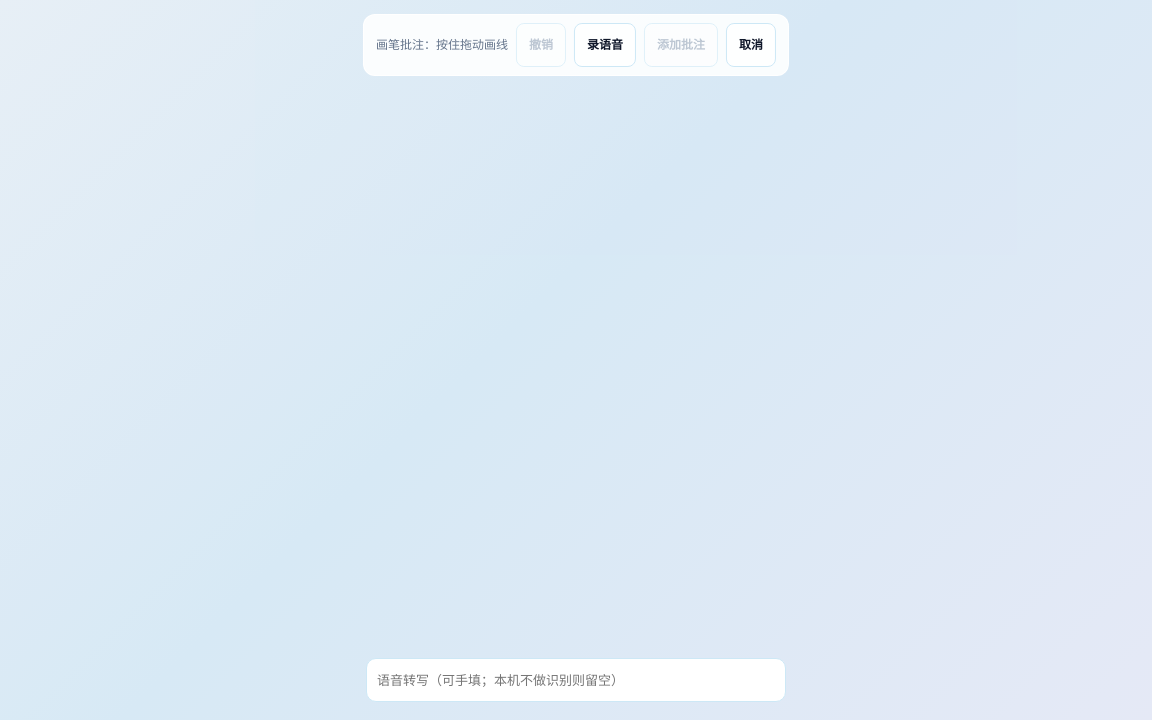
Test case: AnnotationCanvas · A-点哪评哪-07 › 麦克风不可用时如实提示（不假装录上）
The width and height of the screenshot is (1152, 720).
Click the button with test id "annotation-record" at (605, 45), box 574,23 -> 636,67
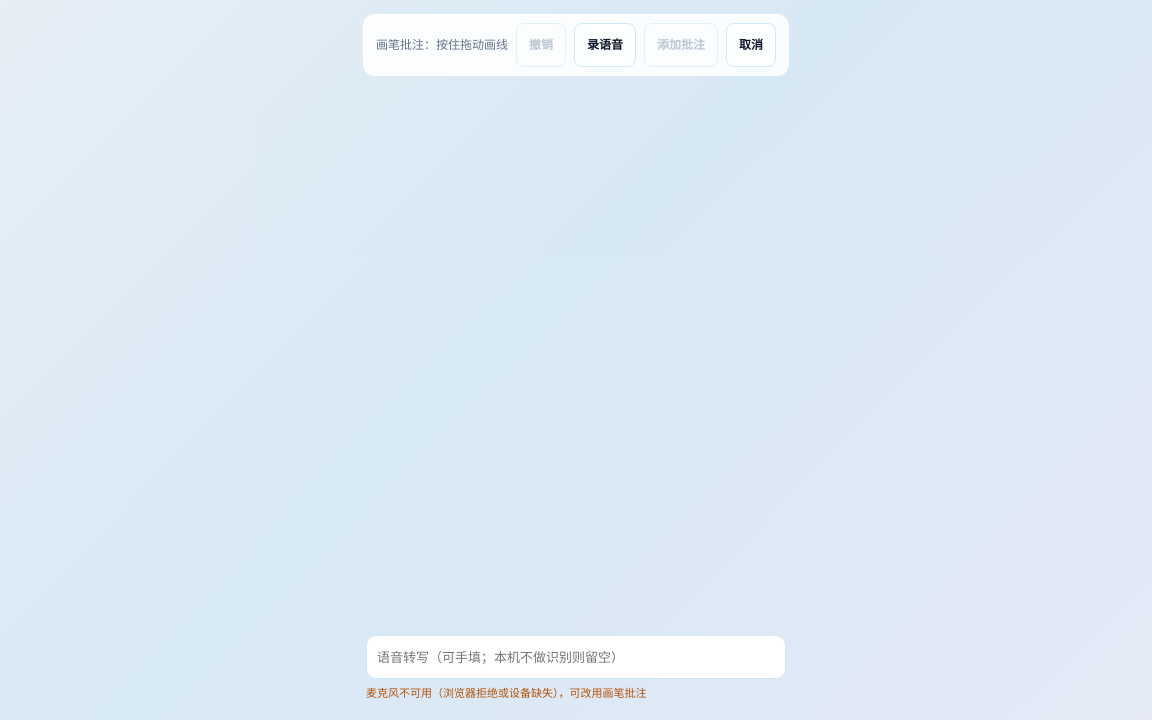
Expected: the text with test id "annotation-notice" shows "麦克风不可用", 366,686 -> 646,700
